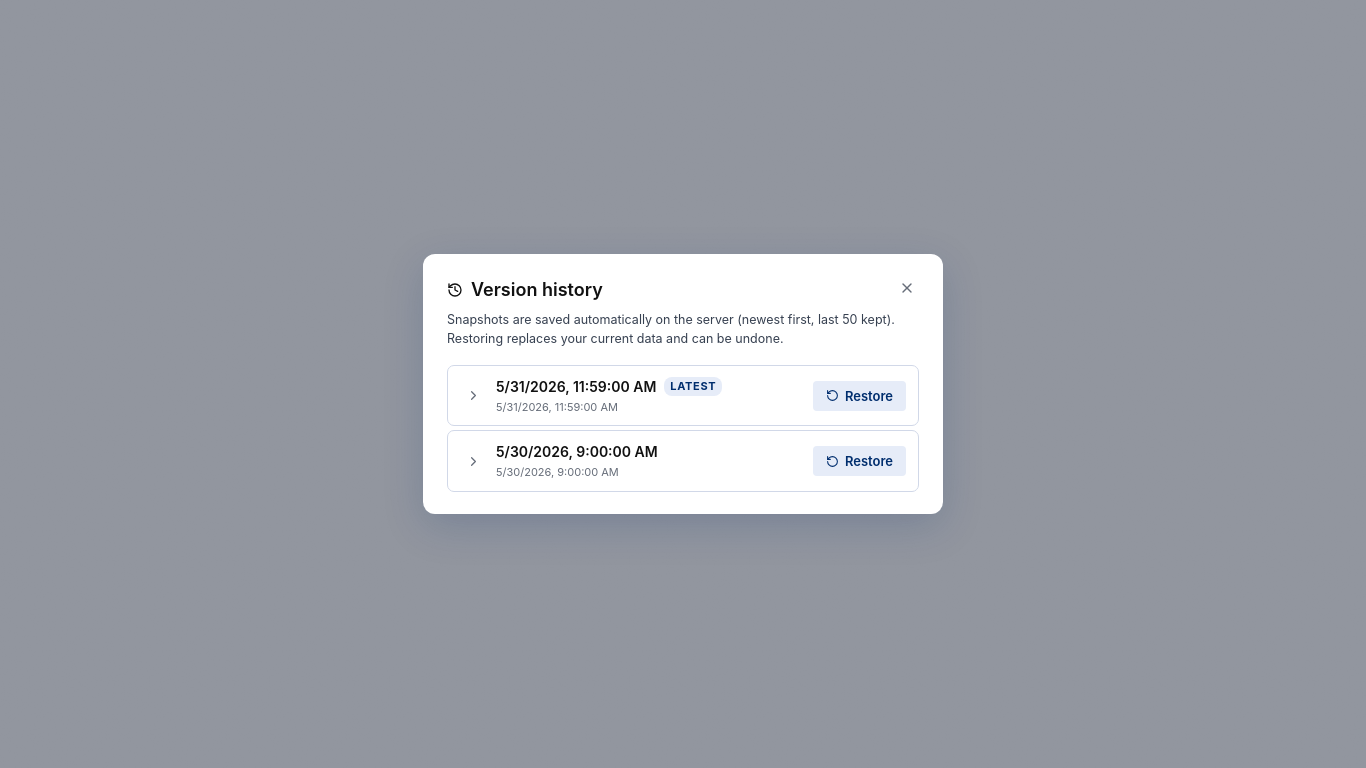
<SnapshotHistory> › labels the oldest snapshot as the first recorded version
The width and height of the screenshot is (1366, 768).
# The older row (id 1) has no predecessor
Click the 2nd button named "show what changed" at (473, 461), box [460, 448, 486, 474]
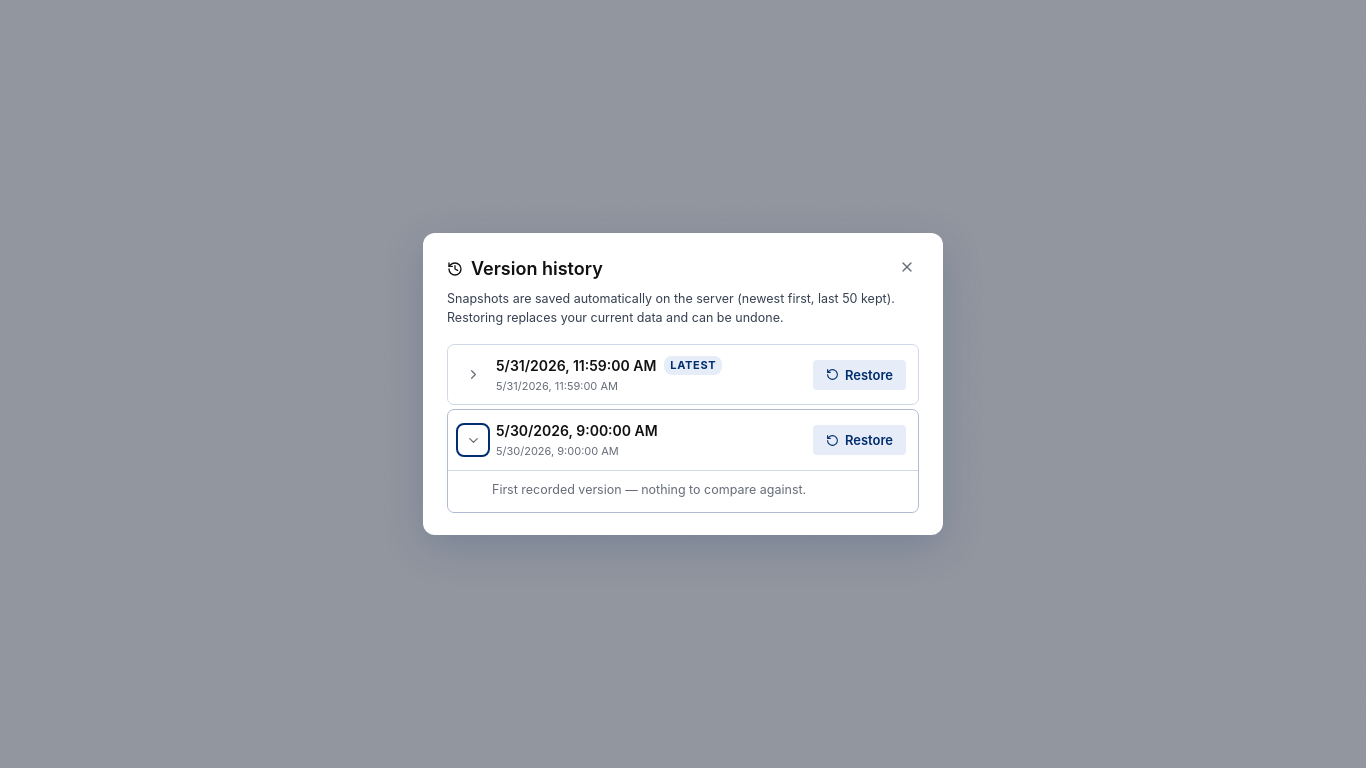
Now the text "First recorded version — nothing to compare against." is shown, box [492, 482, 806, 497]
